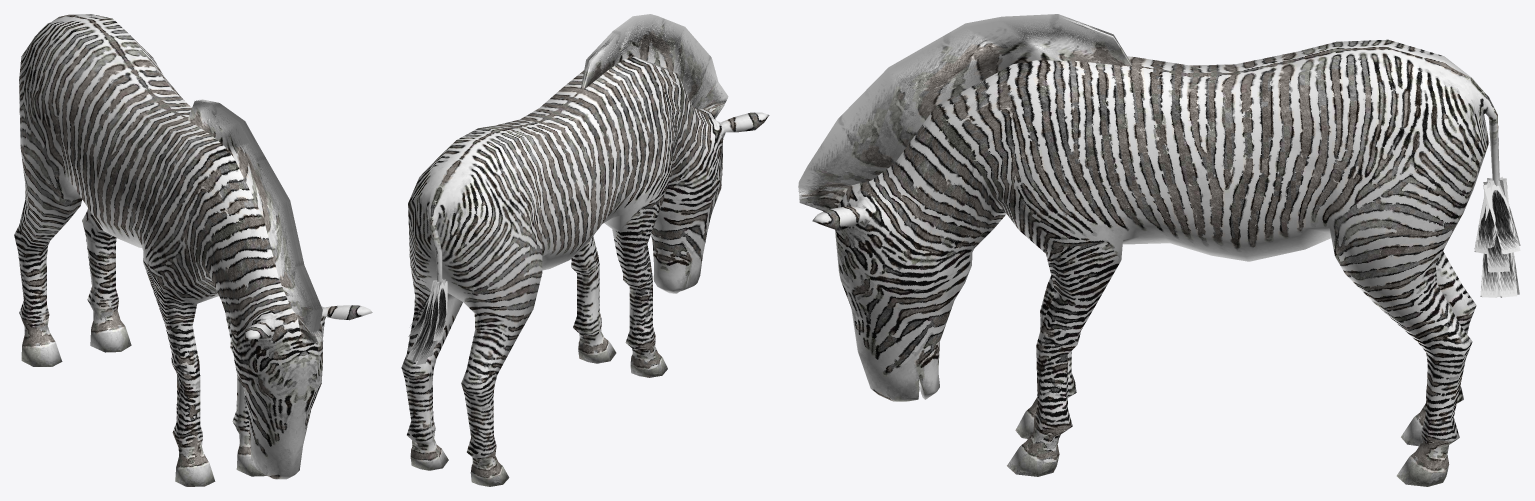
The model's file is zebra.gltf.
3 views of the same model, side by side, from view 1: azimuth 30°, elevation 25°; view 2: azimuth 150°, elevation 25°; view 3: azimuth 270°, elevation 25° (orthographic). The views are drawn at different scales.
Visible parts, largest first — view 1: 动物_斑马; view 2: 动物_斑马; view 3: 动物_斑马.
Part boxes in pixels (bbox=[...]): 动物_斑马: bbox=[14, 14, 372, 486]; 动物_斑马: bbox=[401, 14, 769, 486]; 动物_斑马: bbox=[798, 14, 1520, 486].
Bounding box in the file's own units: 0.6408 × 1.58 × 2.39.
1 material, 1 textured.
